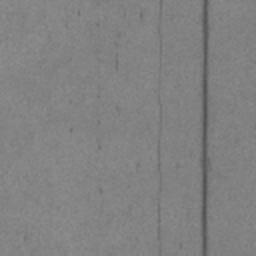Scratches: (202, 0, 209, 256), (157, 0, 163, 256)
